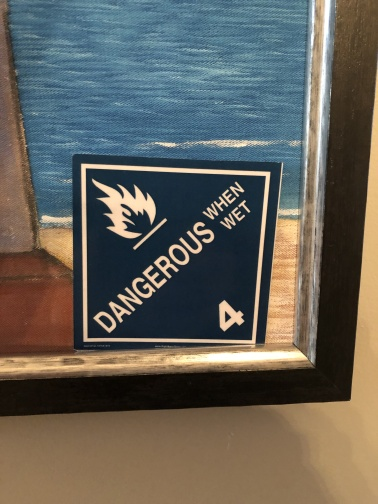DangerousWhenWet: (74, 153, 274, 349)
